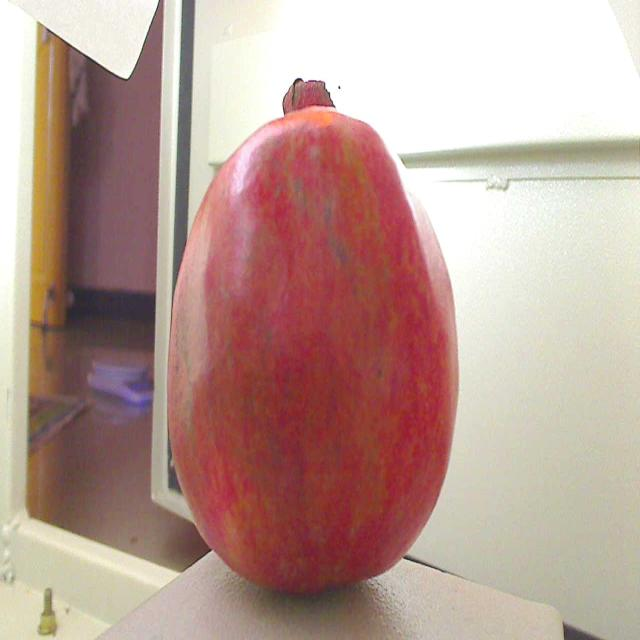pomegranate: (151, 54, 468, 614)
